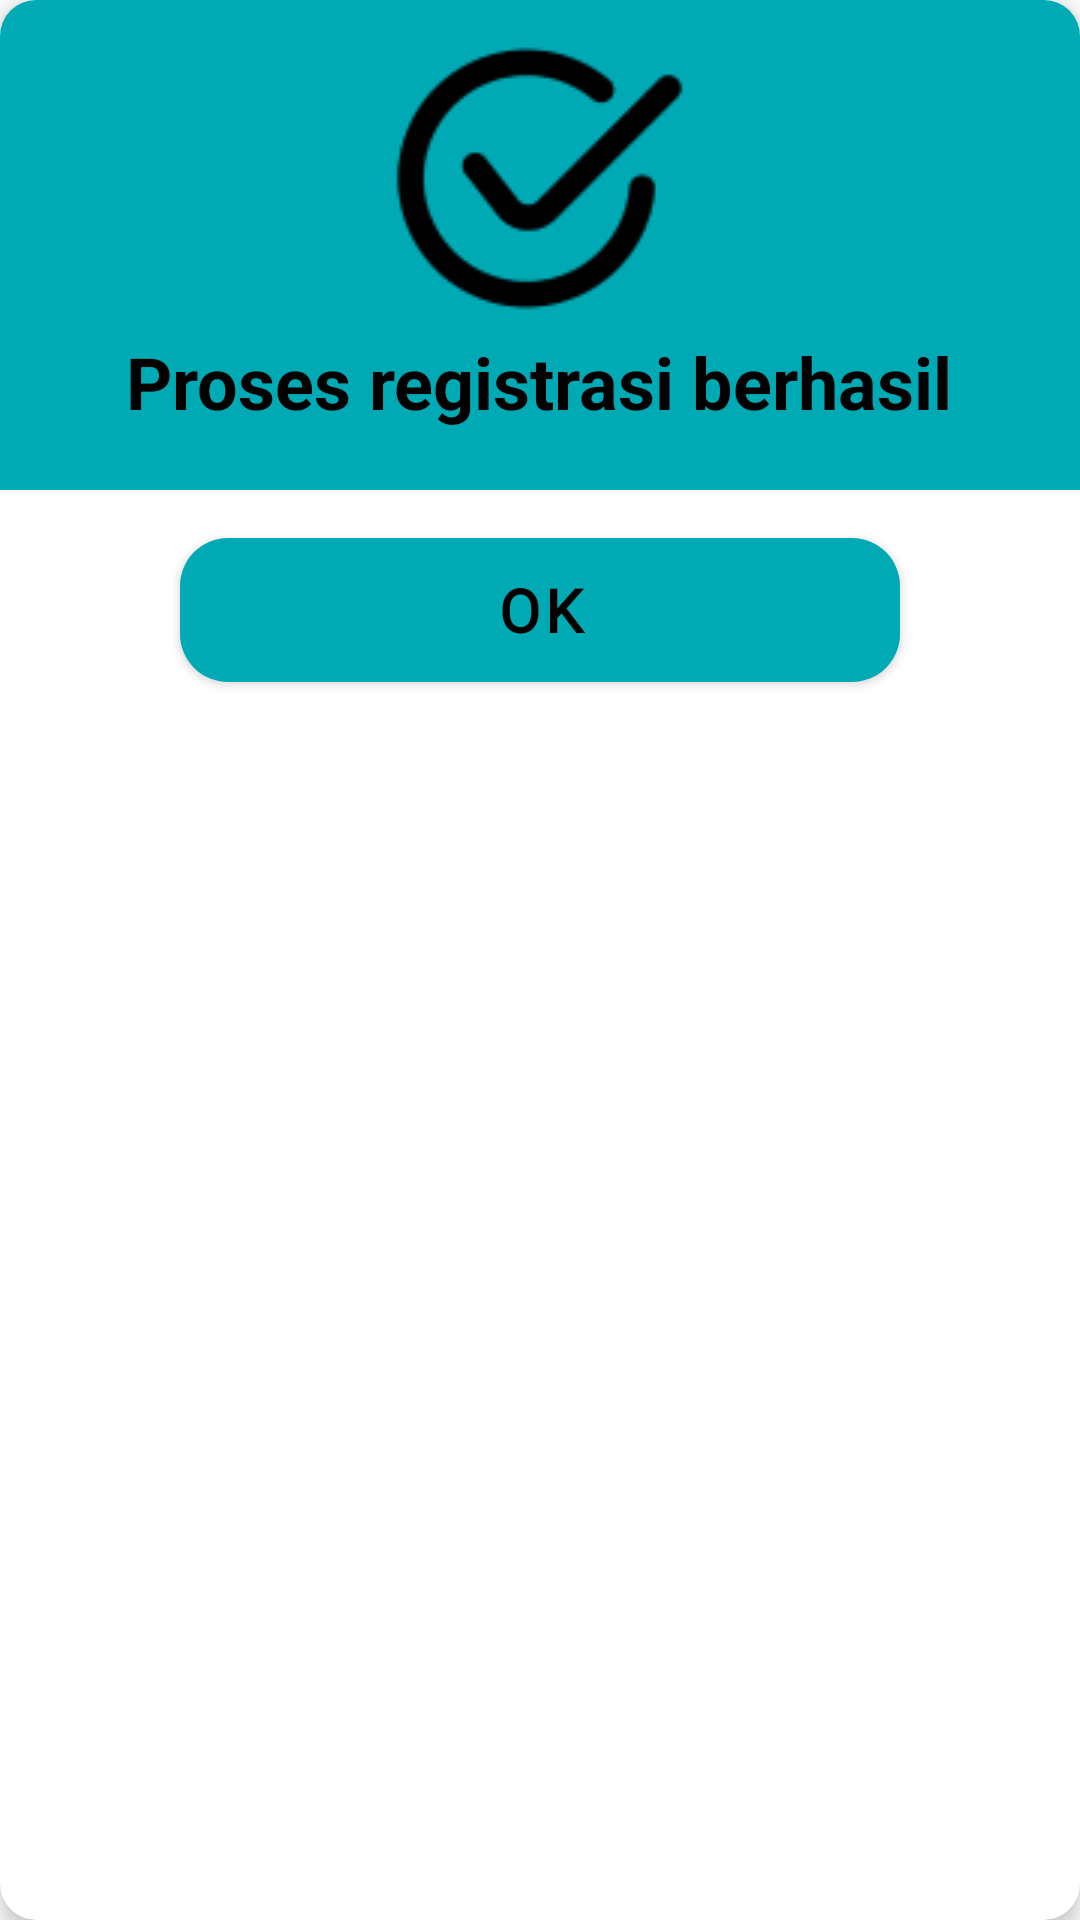

Where to tap for icons on this 1080px×1920px app screen, as (x,y):
success: (539,178)
